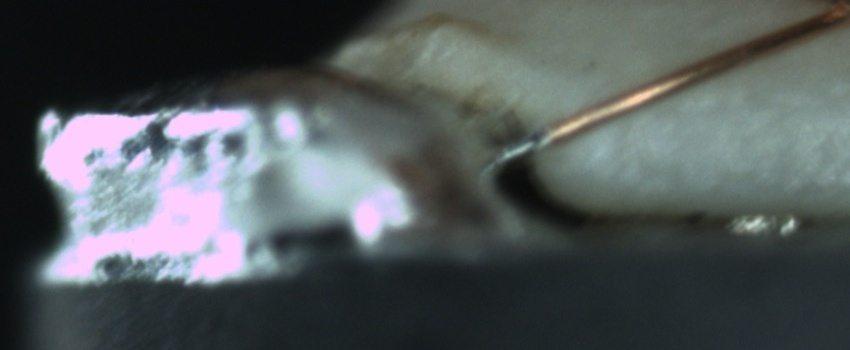TS: (494, 127, 546, 163)
